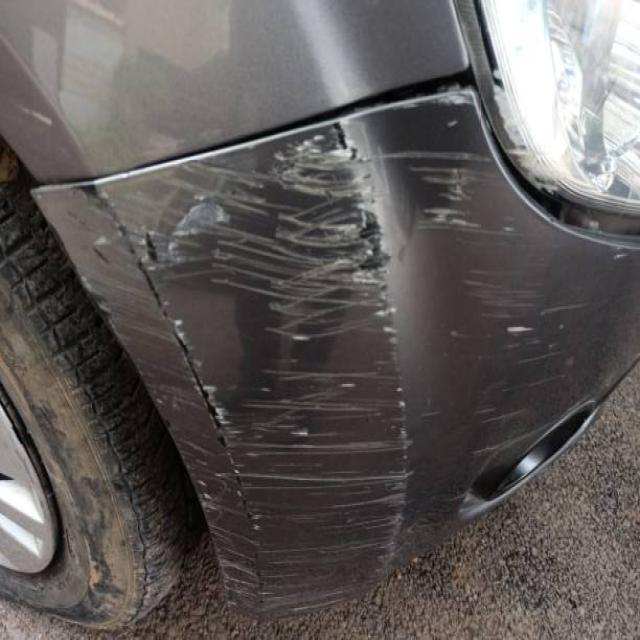scratch: (149, 128, 377, 589), (384, 135, 548, 532)
